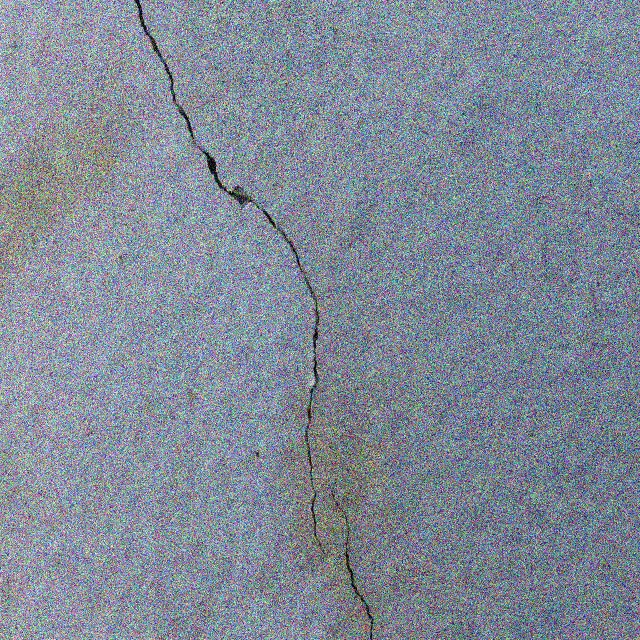SurfaceCrack: (98, 1, 414, 640)
